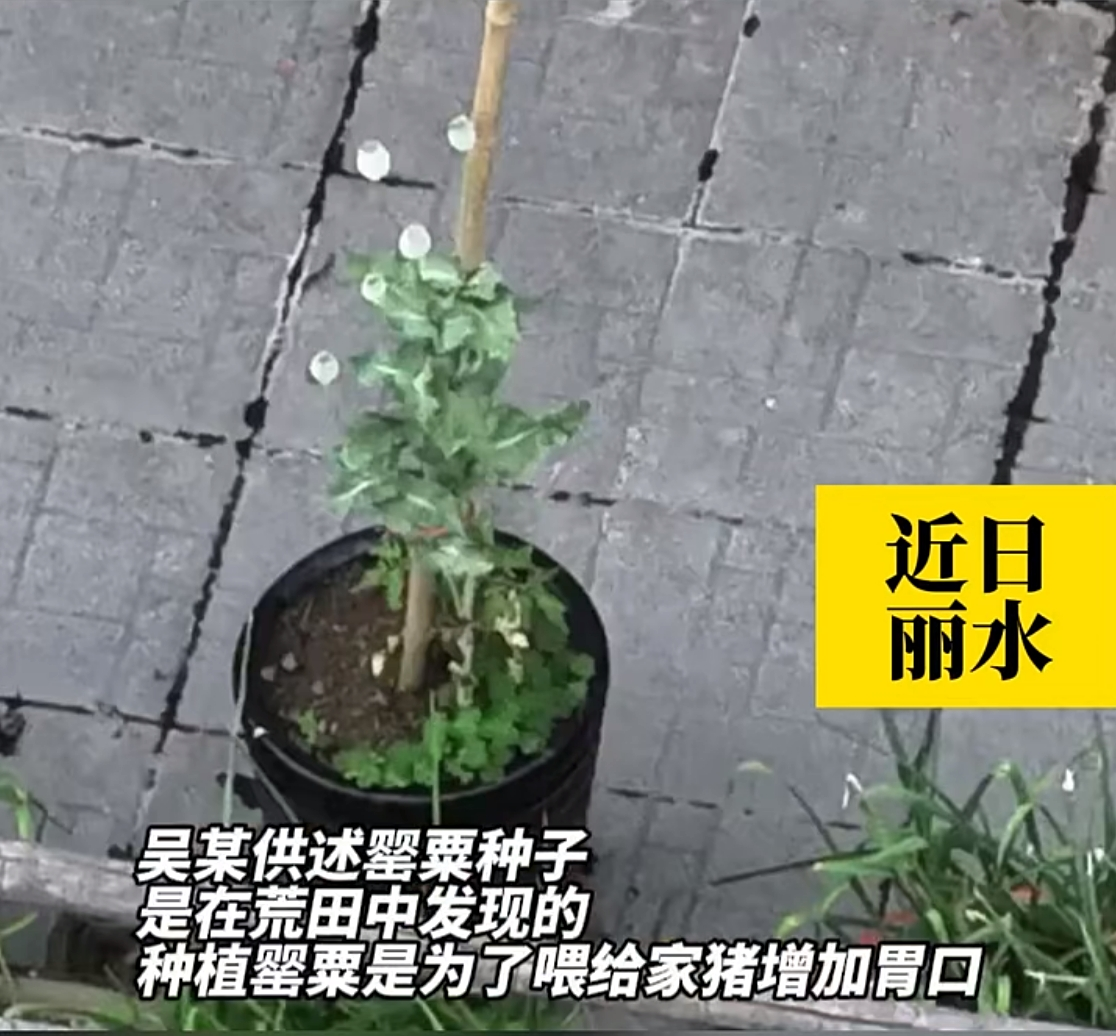Poppy: (266, 99, 585, 688)
